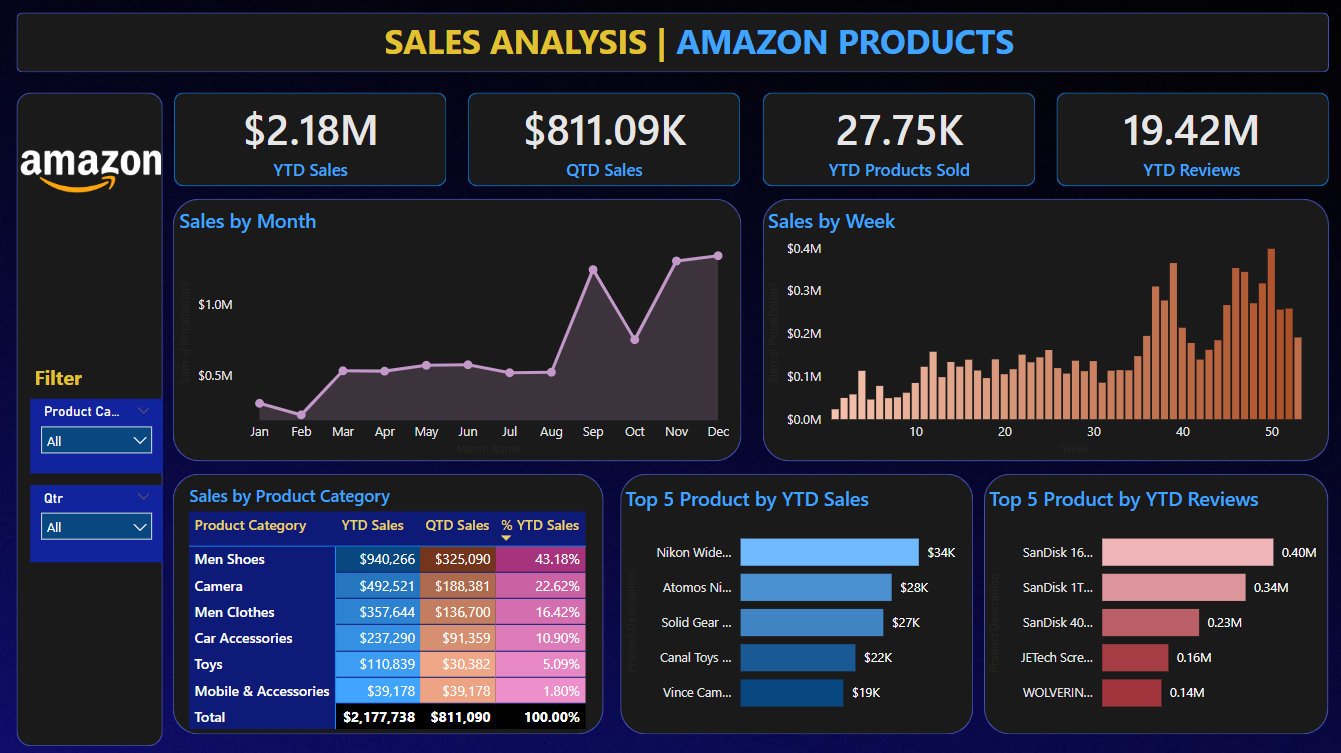

What the dashboard file says about the page in this screenshot:
{"tool":"powerbi","page":{"name":"Page 1","canvas":[1280,720],"ordinal":0},"visuals":[{"type":"shape","box":[16.7,11.9,1250,57.1],"z":0},{"type":"shape","box":[166.7,88.1,259.5,89.3],"z":1000},{"type":"textbox","box":[361.9,11.9,613.1,76.2],"z":2000},{"type":"card","fields":{"Values":["Amazon_Data.YTD Sales"]},"box":[166.7,88.1,260.7,89.3],"z":3000},{"type":"shape","box":[16.7,88.1,139.3,622.6],"z":4000},{"type":"shape","box":[446.8,88.1,259.5,89.3],"z":5000},{"type":"shape","box":[727,88.1,259.5,89.3],"z":6000},{"type":"card","fields":{"Values":["Amazon_Data.QTD Sales"]},"box":[446.4,88.1,260.7,89.3],"z":7000},{"type":"shape","box":[1007.1,88.1,259.5,89.3],"z":8000},{"type":"card","fields":{"Values":["Amazon_Data.YTD Products Sold"]},"box":[727.4,88.1,260.7,89.3],"z":9000},{"type":"card","fields":{"Values":["Amazon_Data.YTD Reviews"]},"box":[1006,88.1,260.7,89.3],"z":10000},{"type":"shape","box":[165.5,189.3,541.7,250],"z":11000},{"type":"stackedAreaChart","title":"Sales by Month","fields":{"Category":["Calendar Table.Month Name"],"Y":["Sum(Amazon_Data.Price(Dollar))"]},"box":[166.7,197.6,539.3,241.7],"z":12000},{"type":"shape","box":[727.4,189.3,539.3,250],"z":13000},{"type":"columnChart","title":"Sales by Week","fields":{"Category":["Calendar Table.Week"],"Y":["Sum(Amazon_Data.Price(Dollar))"]},"box":[727.4,197.6,539.3,241.7],"z":14000},{"type":"shape","box":[166,451.5,410.3,248.4],"z":15000},{"type":"pivotTable","title":"Sales by Product Category","fields":{"Rows":["Amazon_Data.Product Category"],"Values":["Amazon_Data.YTD Sales1","Amazon_Data.QTD Sales","Amazon_Data.YTD Sales"]},"box":[176.2,460.7,391.7,239.3],"z":16000},{"type":"shape","box":[591.4,451.5,336.2,248.4],"z":17000},{"type":"clusteredBarChart","title":"Top 5 Product by YTD Sales","fields":{"Category":["Amazon_Data.Product Description"],"Y":["Amazon_Data.YTD Sales"]},"box":[591.4,462.4,336.2,230.5],"z":18000},{"type":"shape","box":[938.6,451.5,328,248.4],"z":19000},{"type":"clusteredBarChart","title":"Top 5 Product by YTD Reviews","fields":{"Category":["Amazon_Data.Product Description"],"Y":["Amazon_Data.YTD Reviews"]},"box":[938.6,462.4,328,230.5],"z":20000},{"type":"slicer","fields":{"Values":["Amazon_Data.Product Category"]},"box":[29.8,379.8,126.2,71.4],"z":21000},{"type":"slicer","fields":{"Values":["Calendar Table.Qtr"]},"box":[29.8,461.9,126.2,73.8],"z":22000},{"type":"textbox","box":[28.6,341.7,72.6,35.7],"z":23000},{"type":"image","box":[0,69,176.2,183.3],"z":24000}]}

Visuals, with their boxes in screenshot pixels (x1, y1, x2, y2), scaled from the page's 1280x720 canvas onto the 1341x753 screenshot:
shape: <region>17, 12, 1327, 72</region>
shape: <region>175, 92, 447, 186</region>
textbox: <region>379, 12, 1021, 92</region>
card - Amazon_Data.YTD Sales: <region>175, 92, 448, 186</region>
shape: <region>17, 92, 163, 743</region>
shape: <region>468, 92, 740, 186</region>
shape: <region>762, 92, 1034, 186</region>
card - Amazon_Data.QTD Sales: <region>468, 92, 741, 186</region>
shape: <region>1055, 92, 1327, 186</region>
card - Amazon_Data.YTD Products Sold: <region>762, 92, 1035, 186</region>
card - Amazon_Data.YTD Reviews: <region>1054, 92, 1327, 186</region>
shape: <region>173, 198, 741, 459</region>
"Sales by Month" stackedAreaChart: <region>175, 207, 740, 459</region>
shape: <region>762, 198, 1327, 459</region>
"Sales by Week" columnChart: <region>762, 207, 1327, 459</region>
shape: <region>174, 472, 604, 732</region>
"Sales by Product Category" pivotTable: <region>185, 482, 595, 732</region>
shape: <region>620, 472, 972, 732</region>
"Top 5 Product by YTD Sales" clusteredBarChart: <region>620, 484, 972, 725</region>
shape: <region>983, 472, 1327, 732</region>
"Top 5 Product by YTD Reviews" clusteredBarChart: <region>983, 484, 1327, 725</region>
slicer - Amazon_Data.Product Category: <region>31, 397, 163, 472</region>
slicer - Calendar Table.Qtr: <region>31, 483, 163, 560</region>
textbox: <region>30, 357, 106, 395</region>
image: <region>0, 72, 185, 264</region>
